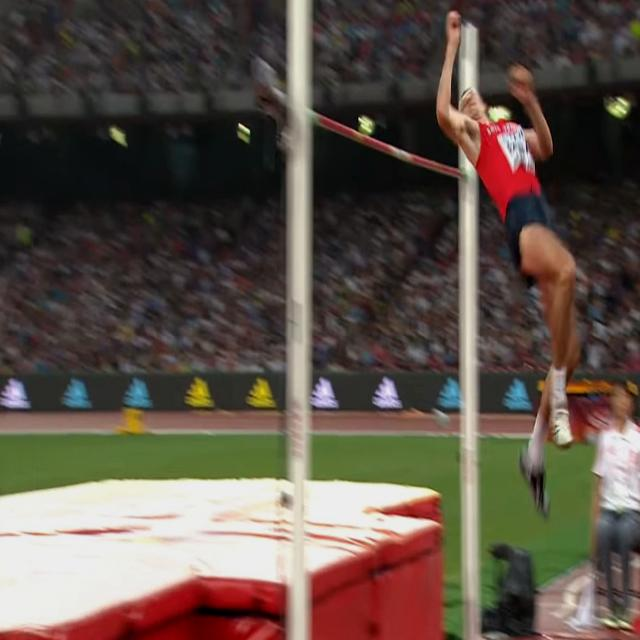jump: (435, 9, 580, 520)
